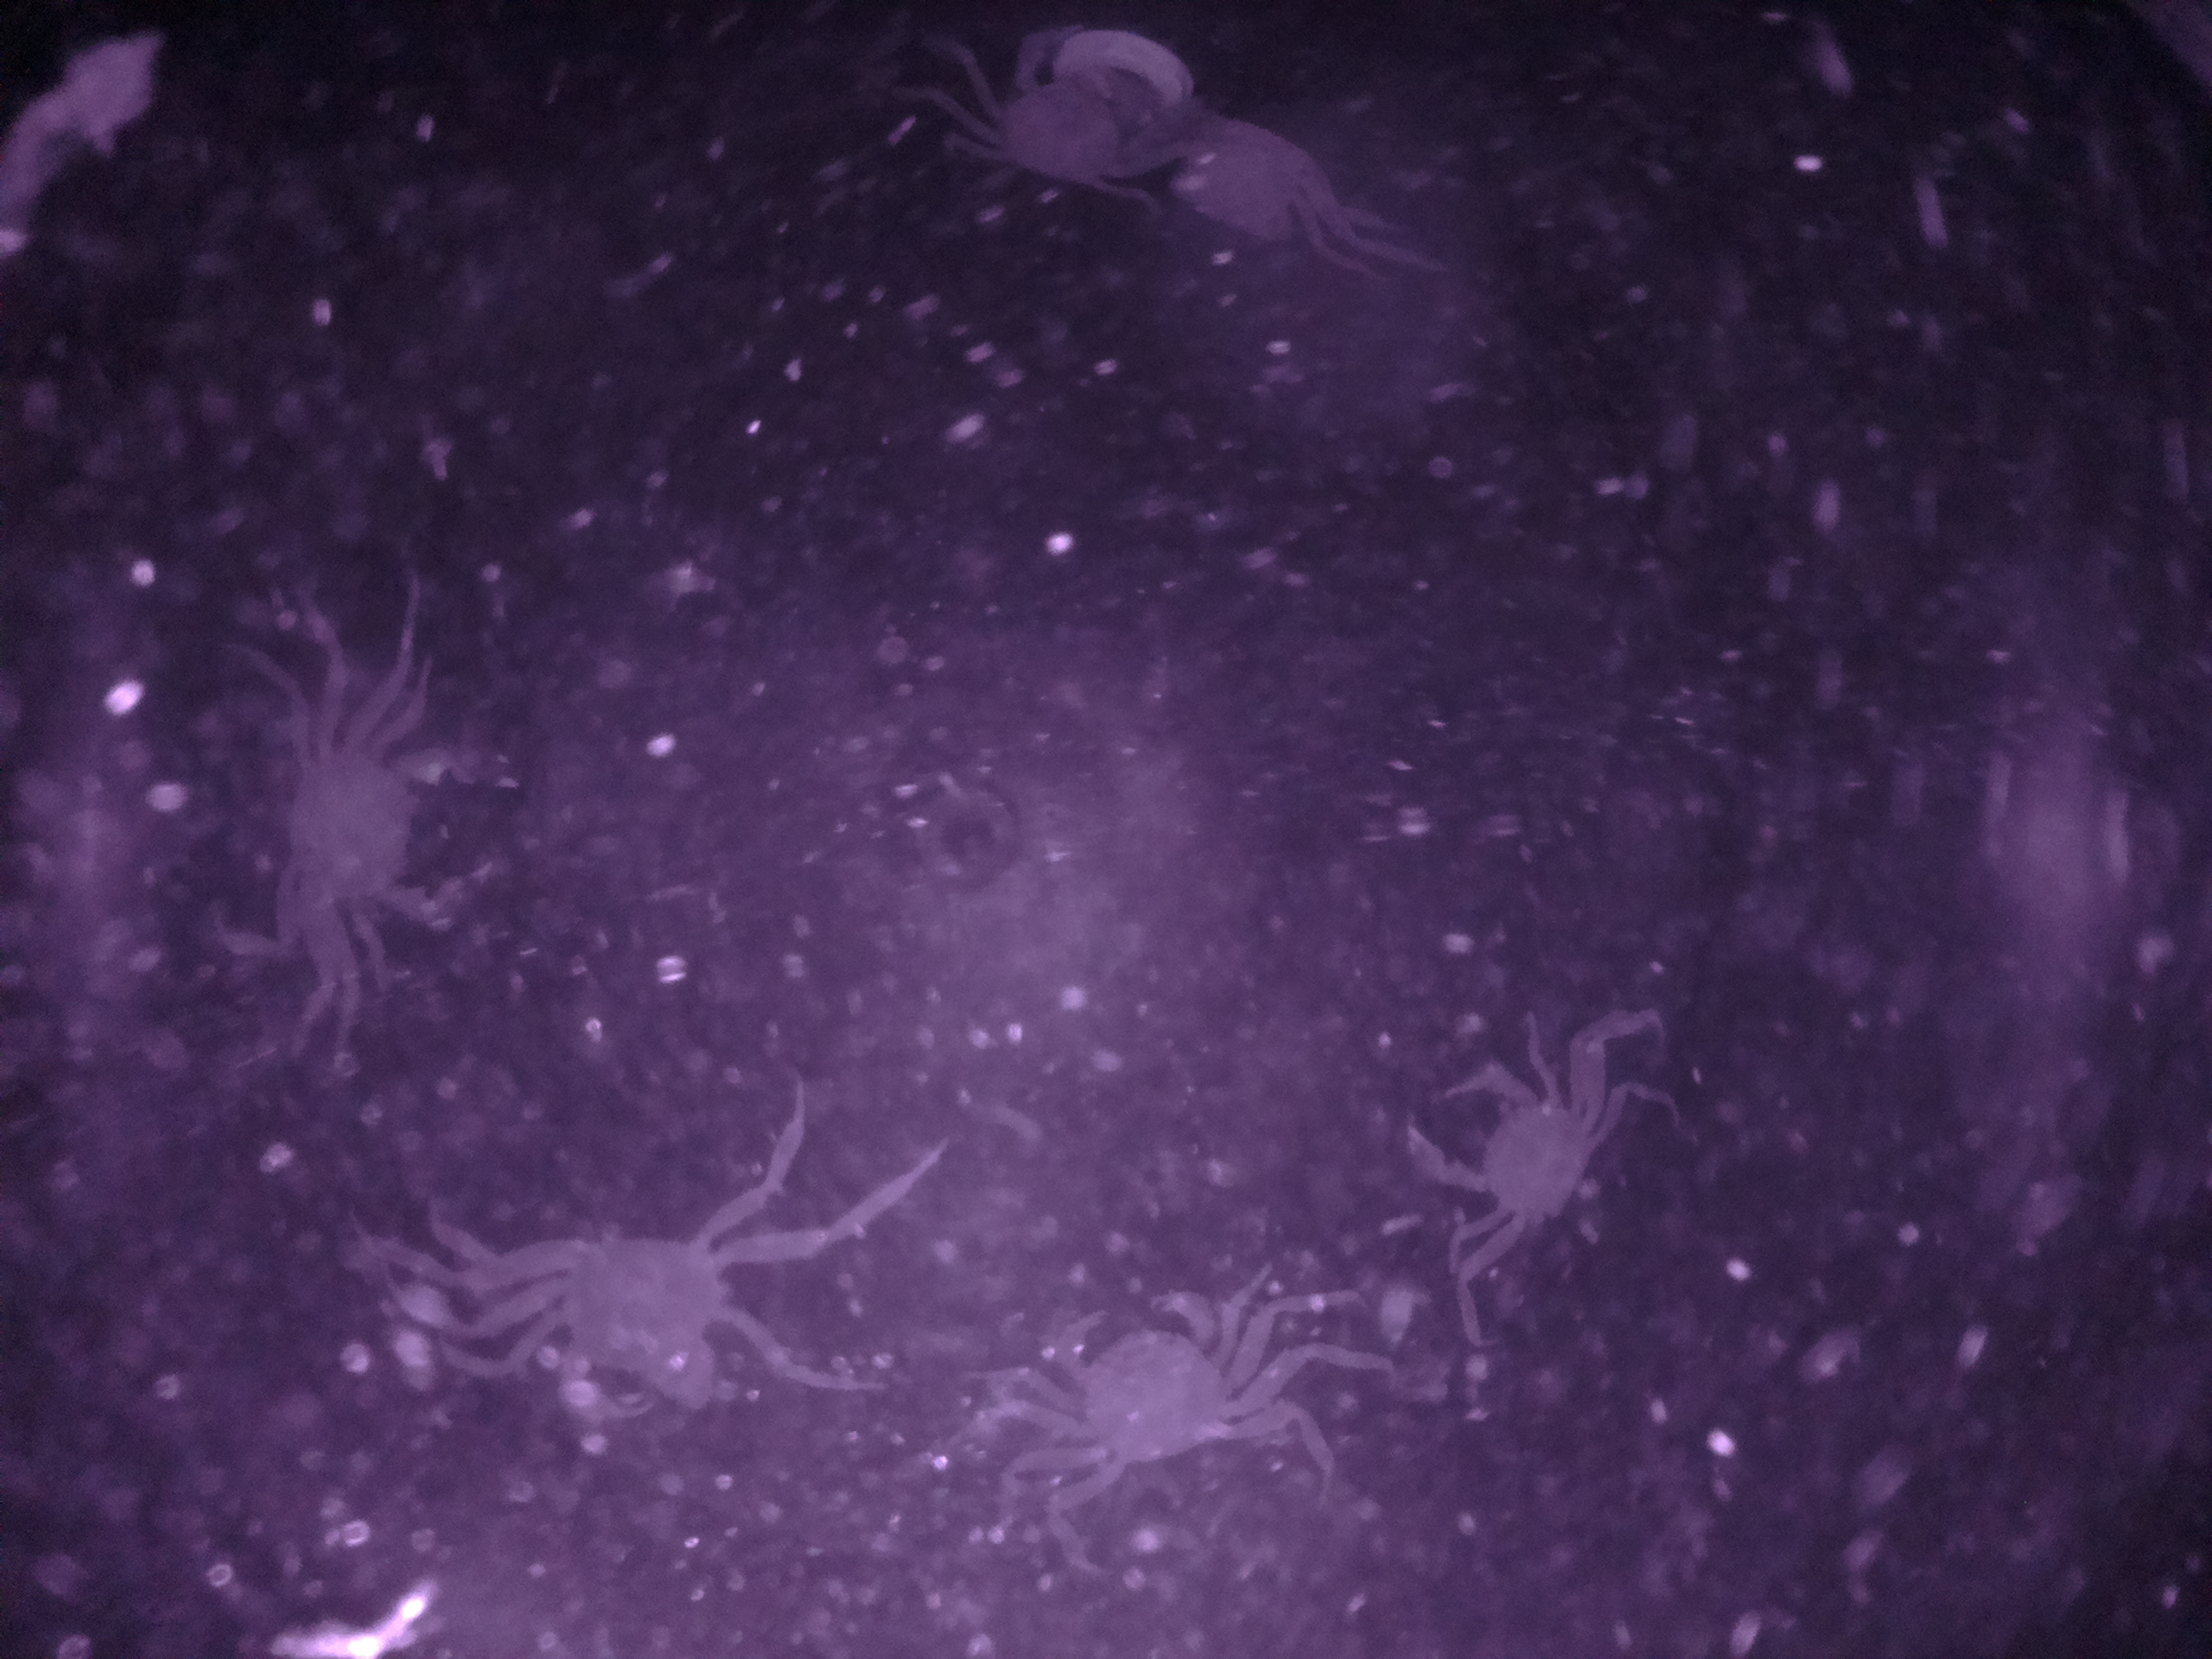Crab: (270, 683, 536, 990), (982, 1277, 1296, 1499), (1362, 1042, 1646, 1258), (510, 1195, 763, 1438)
